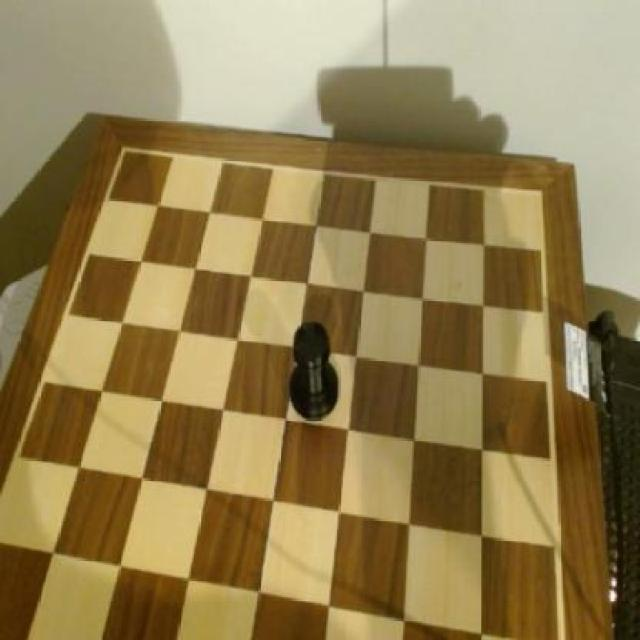black-queen: (286, 317, 343, 421)
